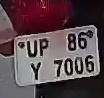0: (74, 55, 86, 75), (64, 56, 74, 77)
6: (76, 30, 88, 52), (84, 53, 96, 75)
7: (53, 57, 65, 79)
8: (65, 31, 77, 53)
P: (36, 37, 51, 59)
U: (25, 38, 39, 59)
Y: (28, 60, 43, 83)
